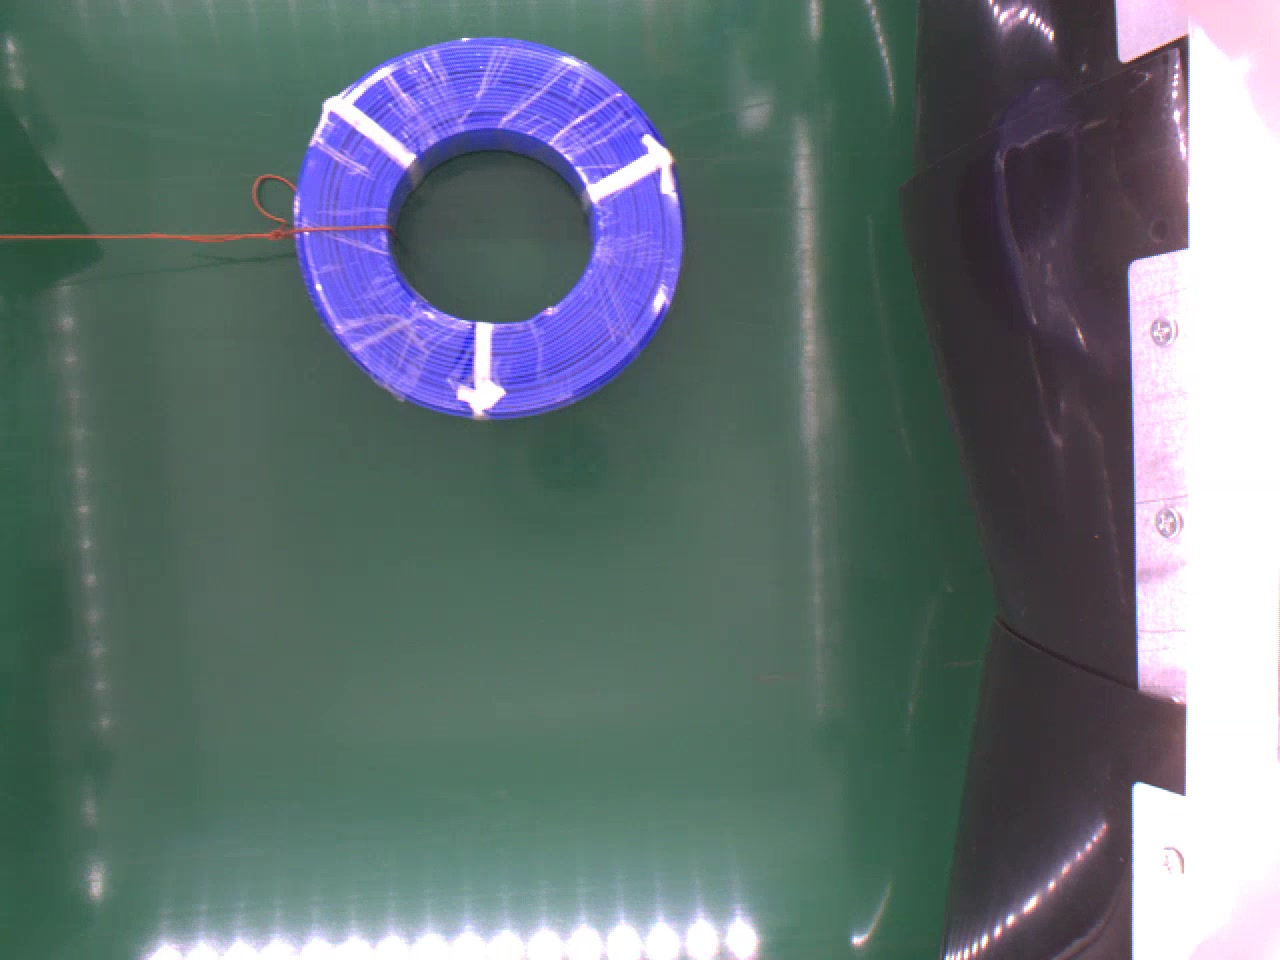blue: (297, 39, 684, 419)
